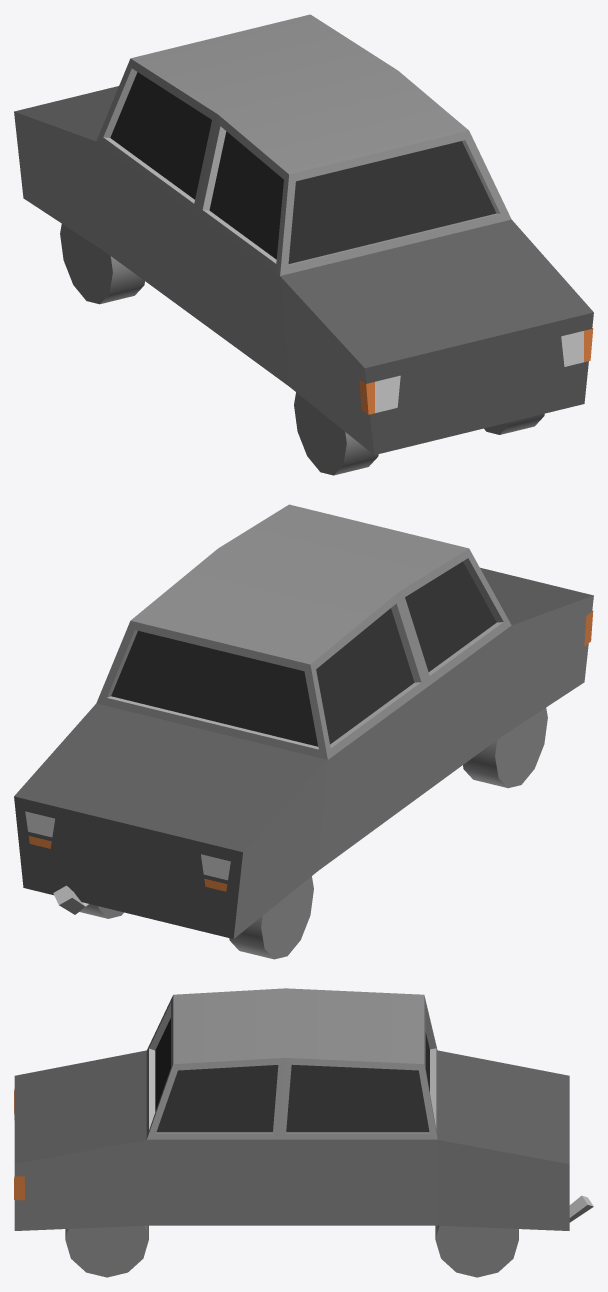
Rendered from car_mixed_08.fbx.
3 views of the same model, one above another, from view 1: azimuth 30°, elevation 25°; view 2: azimuth 150°, elevation 25°; view 3: azimuth 270°, elevation 25° (orthographic). The views are drawn at different scales.
Visible parts, largest first — view 1: car_mixed_08; view 2: car_mixed_08; view 3: car_mixed_08.
Boxes of the visible parts, x1,y1,x2,y2 form: car_mixed_08: (14, 14, 593, 475); car_mixed_08: (14, 504, 593, 959); car_mixed_08: (14, 988, 593, 1277).
Bounding box in the file's own units: 1.6 × 1.8 × 4.39.
